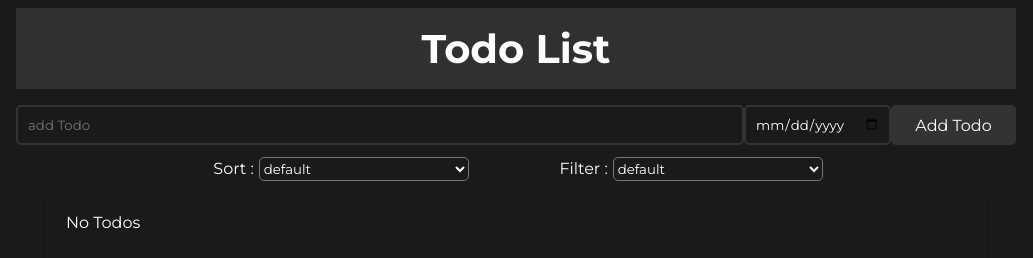
Test: adds a new task
The width and height of the screenshot is (1033, 258).
In the field with placeholder "add Todo": (380, 125) [16,105,744,145], type "New Task"
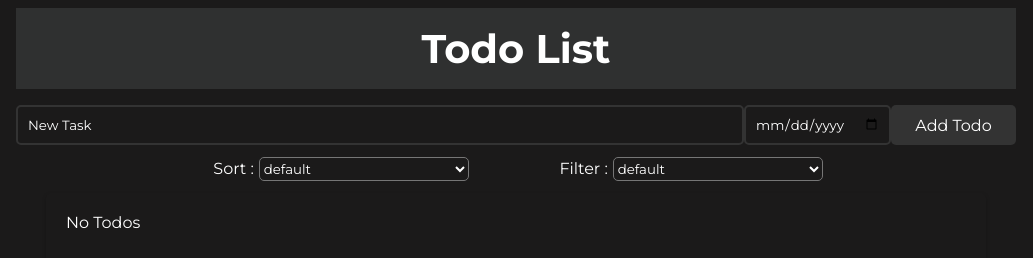
Click the button "Add Todo": click(954, 125) [891,105,1016,145]
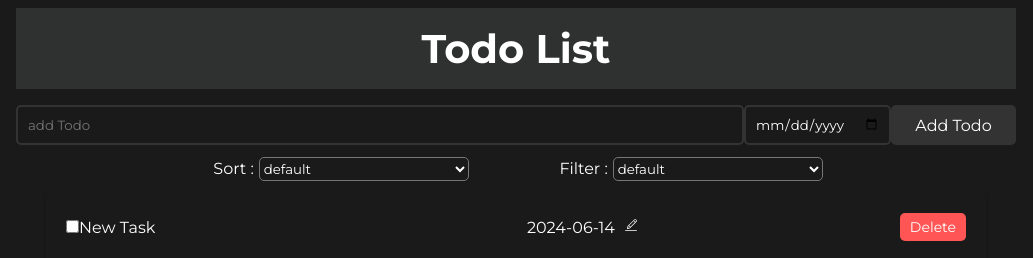
Now the text "New Task" is shown, box [66,218,266,236]
